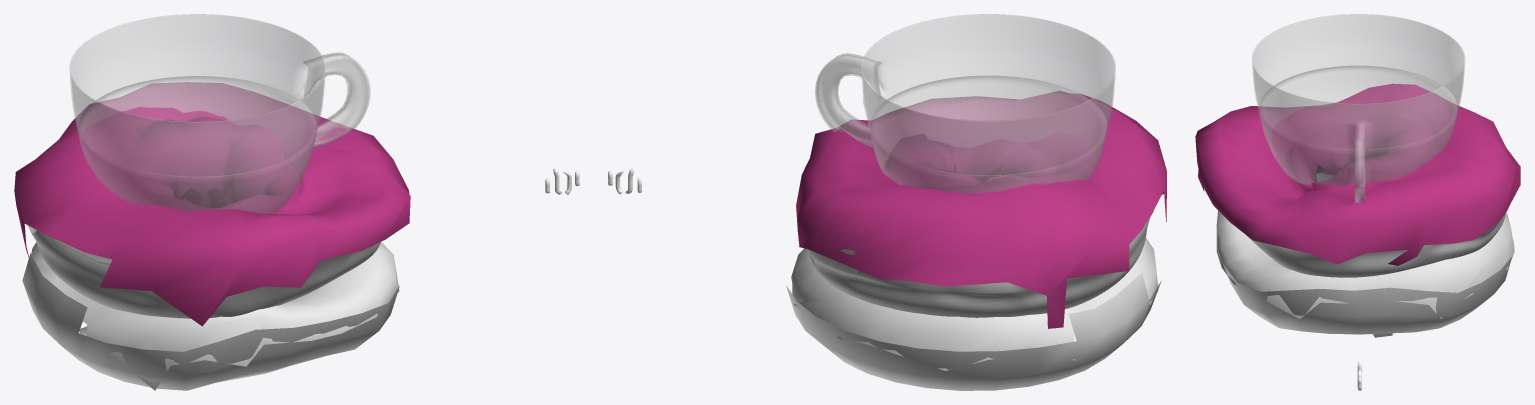
The model's file is Cake.gltf.
The picture shows the model from 3 angles, left to right: view 1: azimuth 30°, elevation 25°; view 2: azimuth 150°, elevation 25°; view 3: azimuth 270°, elevation 25°; orthographic projection. The views are drawn at different scales.
Visible parts, largest first — view 1: Глазурь.003, Кружка, Жидкость, Пончик.001, Глазурь.001, Пончик1; view 2: Глазурь.003, Кружка, Жидкость, Пончик.001, Глазурь.001, Пончик1; view 3: Глазурь.003, Кружка, Жидкость, Пончик.001, Глазурь.001, Пончик1.
Part boxes in pixels (x1,y1,x2,y2): Глазурь.003: [14, 82, 410, 326]; Кружка: [69, 14, 370, 213]; Жидкость: [79, 76, 316, 213]; Пончик.001: [22, 253, 399, 390]; Глазурь.001: [31, 242, 399, 390]; Пончик1: [28, 225, 380, 318]; Глазурь.003: [796, 91, 1166, 328]; Кружка: [815, 14, 1115, 193]; Жидкость: [870, 76, 1106, 192]; Пончик.001: [786, 273, 1161, 390]; Глазурь.001: [791, 238, 1158, 370]; Пончик1: [807, 210, 1153, 317]; Глазурь.003: [1195, 83, 1520, 265]; Кружка: [1252, 14, 1464, 202]; Жидкость: [1260, 66, 1457, 184]; Пончик.001: [1217, 249, 1512, 334]; Глазурь.001: [1216, 210, 1514, 337]; Пончик1: [1245, 173, 1508, 277].
Size of the model in its own units: 0.2544 by 0.1226 by 0.1593.
